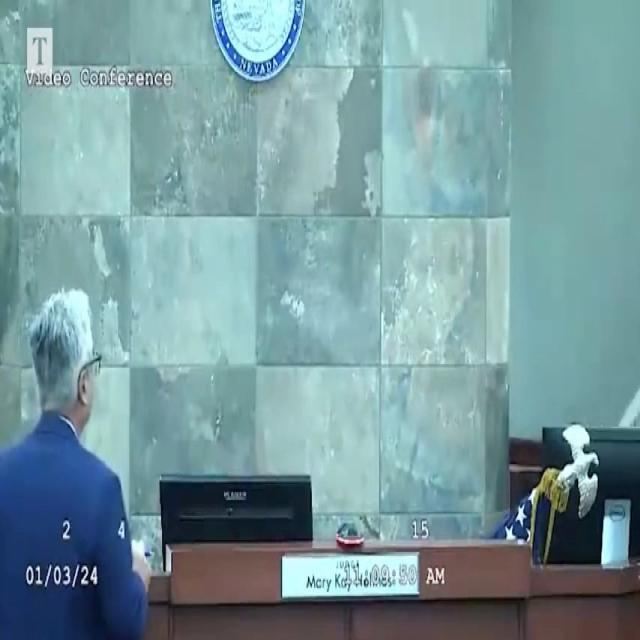non-fight: (0, 280, 158, 639)
